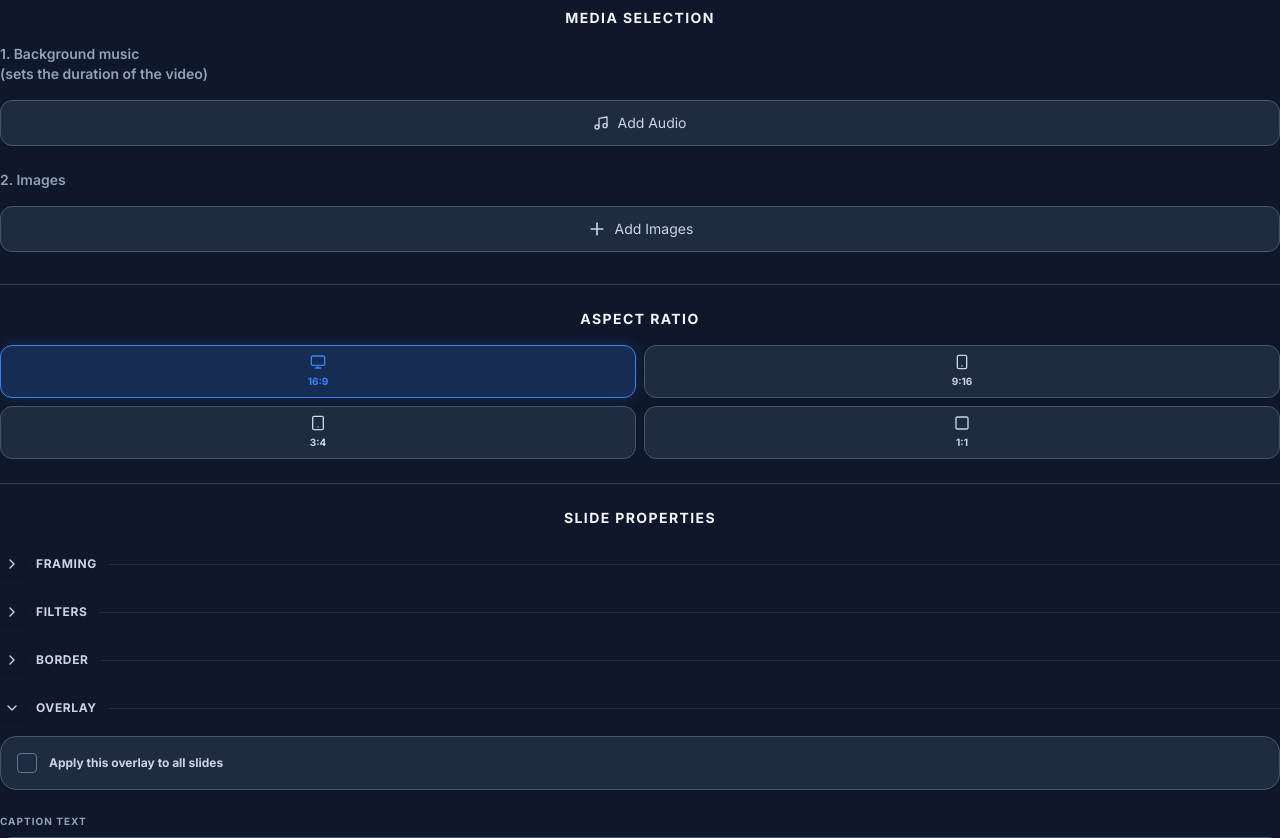
SlideSyncSidebar › renders filter buttons when a slide is selected
The image size is (1280, 838).
Expand Filters panel
Click the button "Filters": [62, 612] box x1=0 y1=600 x2=1279 y2=624
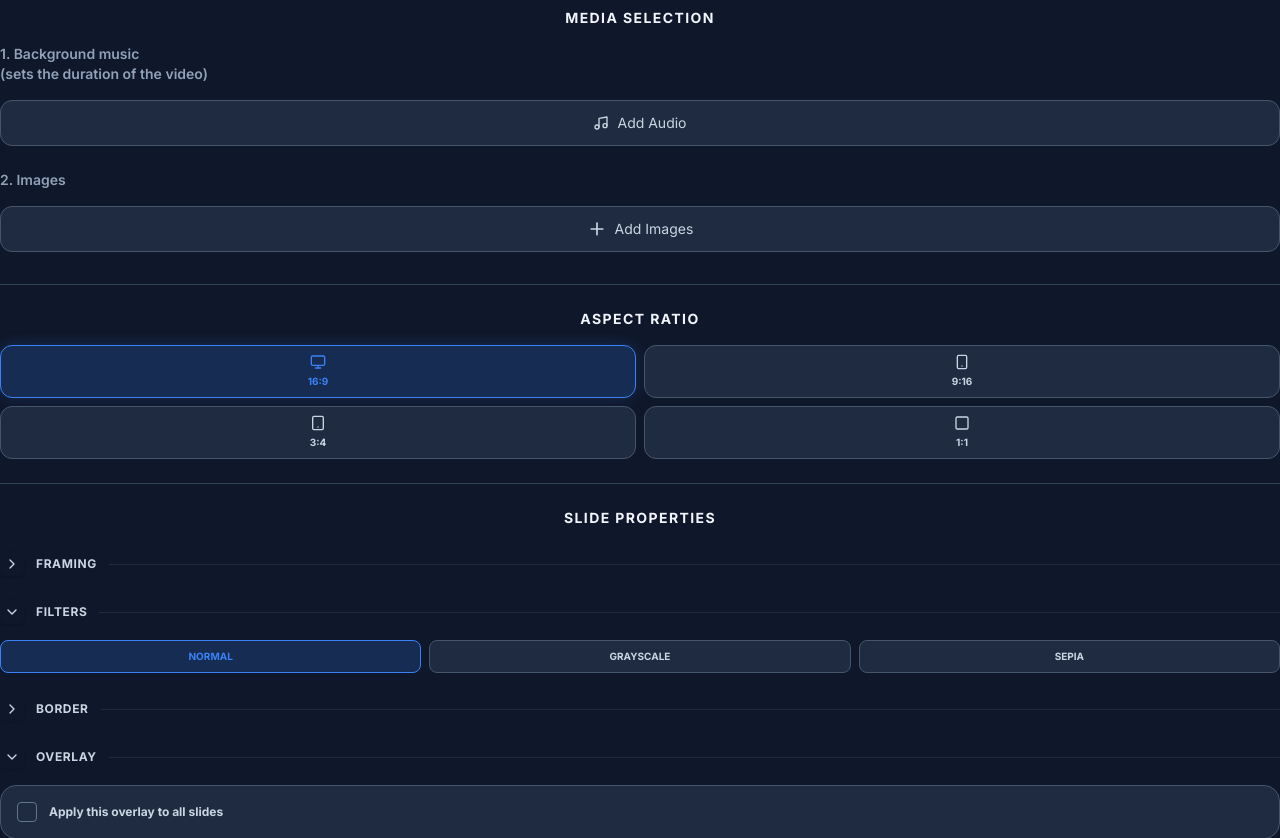
Check: the button "Normal" is shown, box x1=0 y1=640 x2=421 y2=673
Check: the button "Grayscale" is shown, box x1=429 y1=640 x2=851 y2=673
Check: the button "Sepia" is shown, box x1=859 y1=640 x2=1279 y2=673
